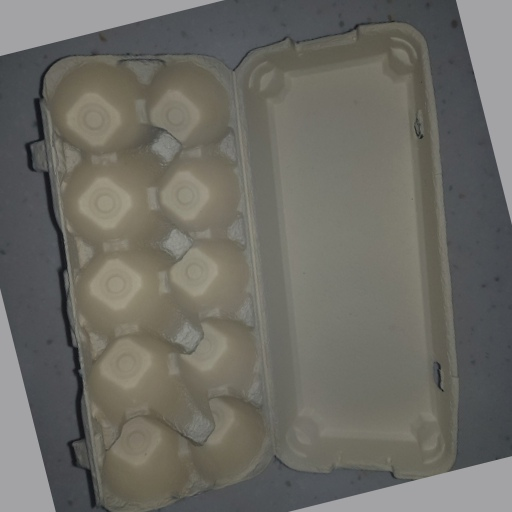Paper_0: (38, 16, 467, 512)
